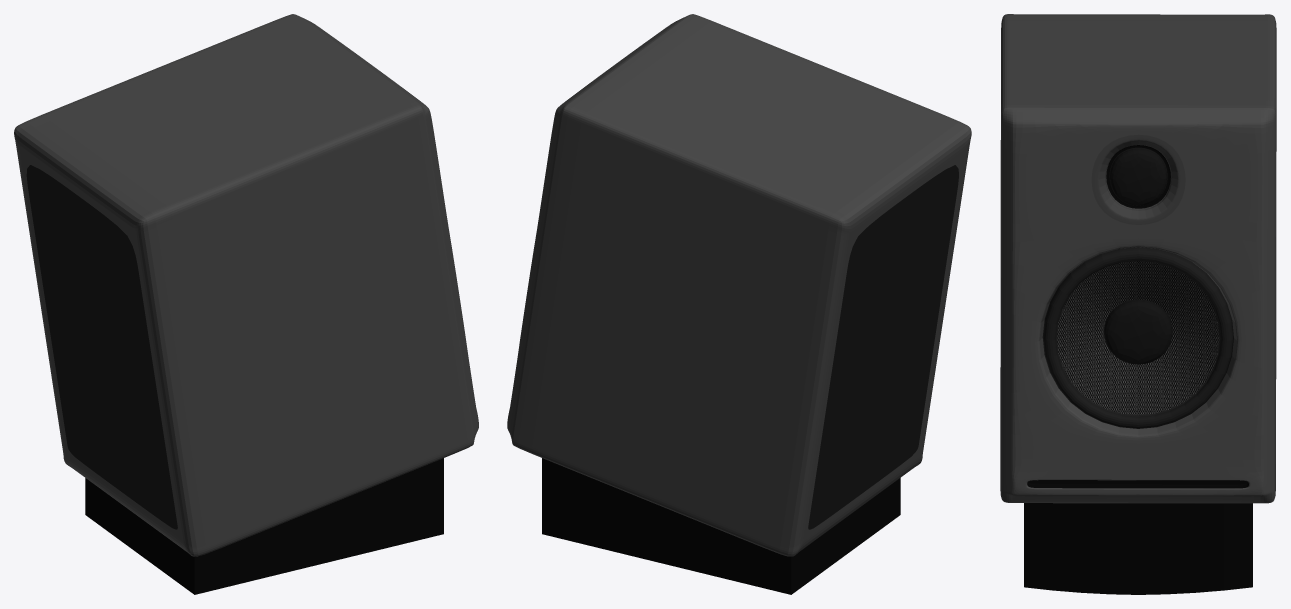
Rendered from speakers 4 black.glb.
3 renders of one model, left to right at view 1: azimuth 30°, elevation 25°; view 2: azimuth 150°, elevation 25°; view 3: azimuth 270°, elevation 25°, orthographic. The views are drawn at different scales.
Parts seen in each view (by area): view 1: Cube.002; view 2: Cube.002; view 3: Cube.002.
Boxes of the visible parts, left/top/right/bottom form: Cube.002: left=14, top=14, right=478, bottom=594; Cube.002: left=507, top=14, right=971, bottom=594; Cube.002: left=1000, top=14, right=1276, bottom=594.
Size of the model in its own units: 6.04 by 7.41 by 4.01.
Materials: 8 (1 with a texture image).
